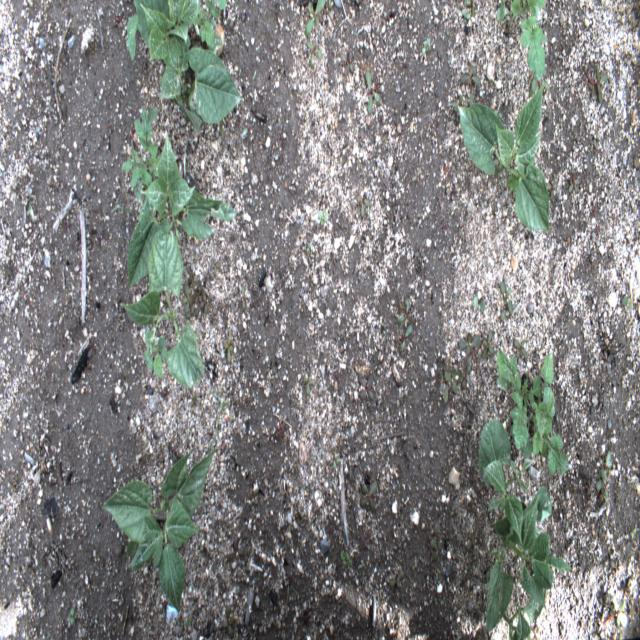crop: (102, 447, 216, 610), (128, 130, 239, 288), (134, 0, 242, 126), (461, 85, 548, 231), (120, 234, 203, 386), (485, 508, 568, 638), (472, 417, 553, 543)
weed: (496, 349, 569, 474), (494, 0, 546, 82), (120, 106, 162, 202), (194, 0, 234, 49), (208, 387, 235, 449), (140, 328, 169, 378), (581, 63, 606, 112), (601, 593, 633, 628), (304, 1, 327, 34), (617, 276, 639, 310), (359, 476, 378, 515), (458, 332, 484, 360), (17, 188, 36, 226), (364, 70, 381, 112), (456, 65, 483, 91), (226, 532, 247, 564), (430, 521, 446, 563), (223, 329, 238, 372), (383, 569, 410, 591), (357, 374, 378, 402), (499, 283, 514, 322), (220, 604, 237, 638), (593, 470, 609, 504), (126, 14, 137, 62), (305, 39, 322, 68), (398, 322, 414, 352), (246, 489, 261, 518), (397, 298, 412, 327), (195, 282, 207, 317), (440, 366, 451, 404), (357, 194, 374, 218), (483, 331, 494, 365), (338, 545, 352, 571), (466, 527, 478, 556), (221, 287, 236, 310), (450, 95, 465, 118), (567, 170, 579, 198), (545, 174, 556, 203), (513, 335, 525, 361), (602, 449, 613, 477), (237, 283, 247, 313), (462, 368, 474, 393), (420, 32, 432, 57), (452, 364, 461, 396), (590, 127, 602, 151), (602, 348, 613, 374), (210, 257, 223, 278), (471, 298, 486, 316), (464, 0, 479, 18), (66, 607, 80, 626), (626, 522, 640, 541), (182, 287, 192, 313), (329, 456, 342, 476), (525, 78, 540, 95), (415, 244, 426, 267), (302, 372, 314, 392), (188, 262, 197, 288), (315, 212, 328, 230), (182, 614, 196, 630), (276, 420, 287, 440), (493, 106, 504, 125), (446, 507, 462, 518), (460, 10, 472, 24), (466, 94, 480, 106), (326, 0, 336, 16), (474, 362, 483, 378), (308, 240, 312, 254)
